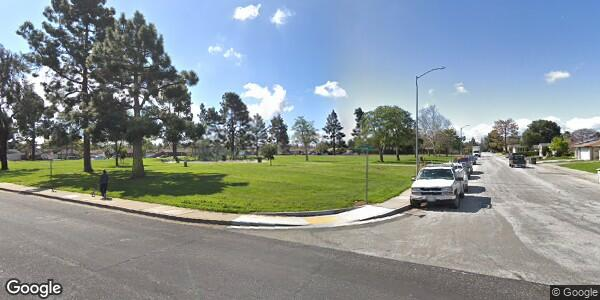Steel_Pole: (414, 64, 447, 181)
